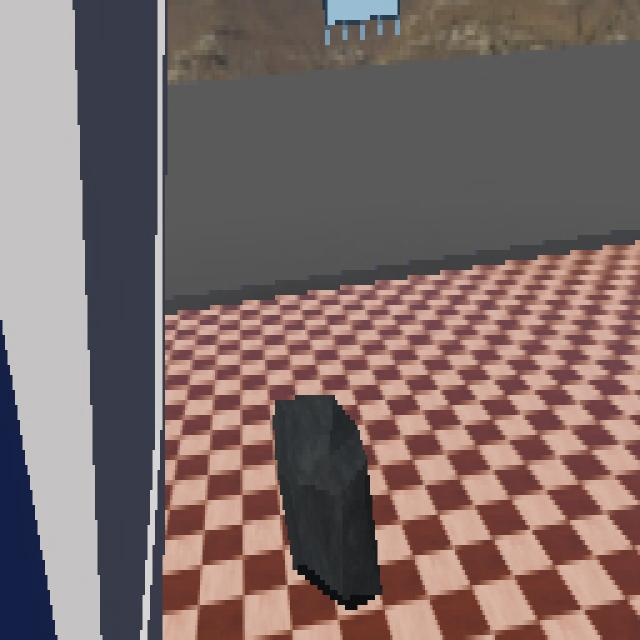rock: (273, 395, 383, 609)
